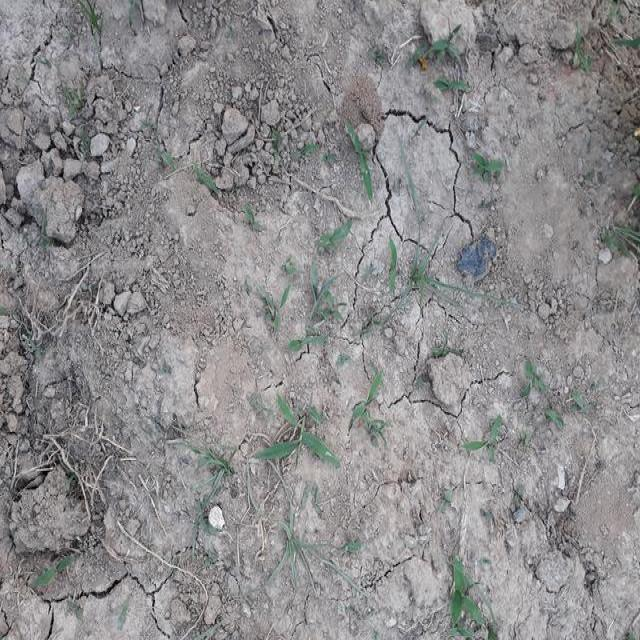weed: (270, 403, 326, 478), (349, 123, 377, 208), (307, 286, 346, 346), (251, 289, 291, 338), (358, 371, 381, 444), (434, 25, 464, 64), (466, 152, 504, 180), (389, 243, 400, 304)
